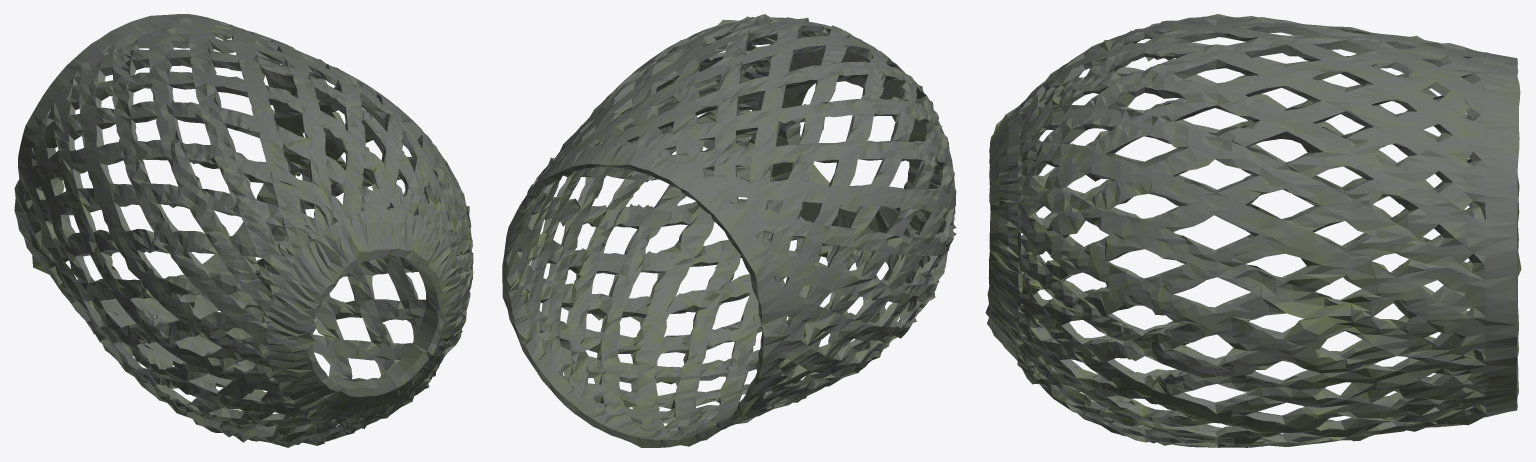
The model's file is lamp_shade_14_final100.obj.
3 renders of one model, left to right at view 1: azimuth 30°, elevation 25°; view 2: azimuth 150°, elevation 25°; view 3: azimuth 270°, elevation 25°, orthographic. The views are drawn at different scales.
Size of the model in its own units: 1.23 by 1.22 by 1.51.
